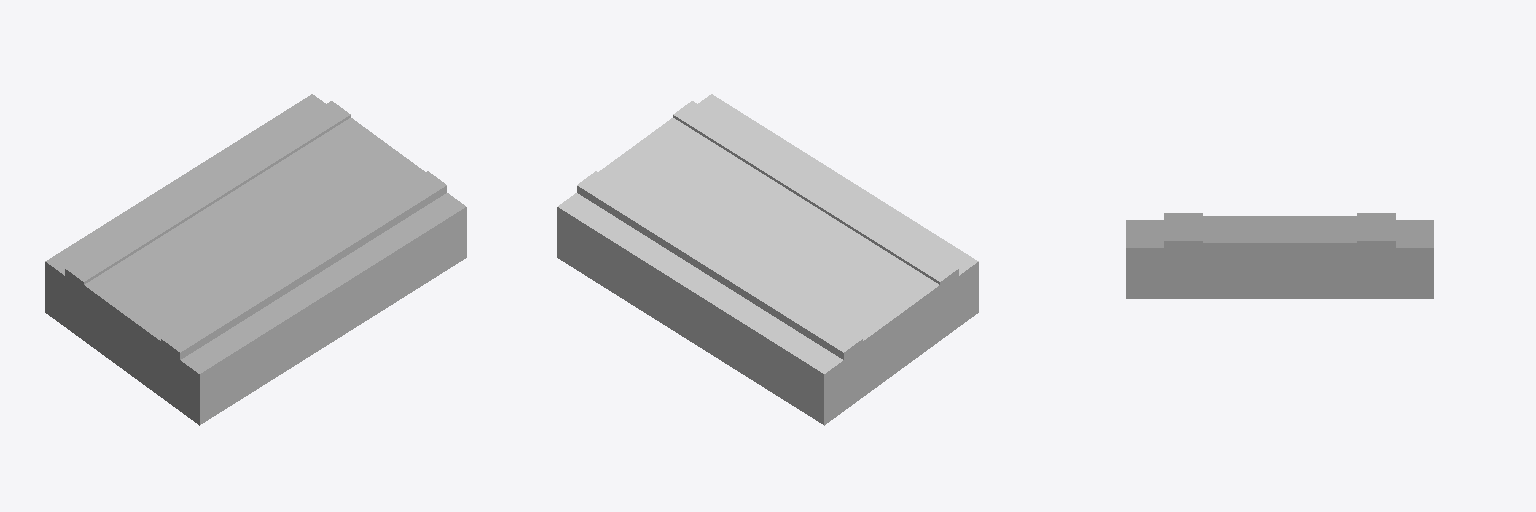
File: tile041.obj
The picture shows the model from 3 angles: view 1: azimuth 30°, elevation 25°; view 2: azimuth 150°, elevation 25°; view 3: azimuth 270°, elevation 25°; orthographic projection.
Visible parts, largest first — view 1: tile041; view 2: tile041; view 3: tile041.
Part boxes in pixels (x1,y1,x2,y2): tile041: (45,94,466,425); tile041: (557,94,978,425); tile041: (1126,213,1433,298).
Bounding box in the file's own units: 1 × 0.5767 × 1.